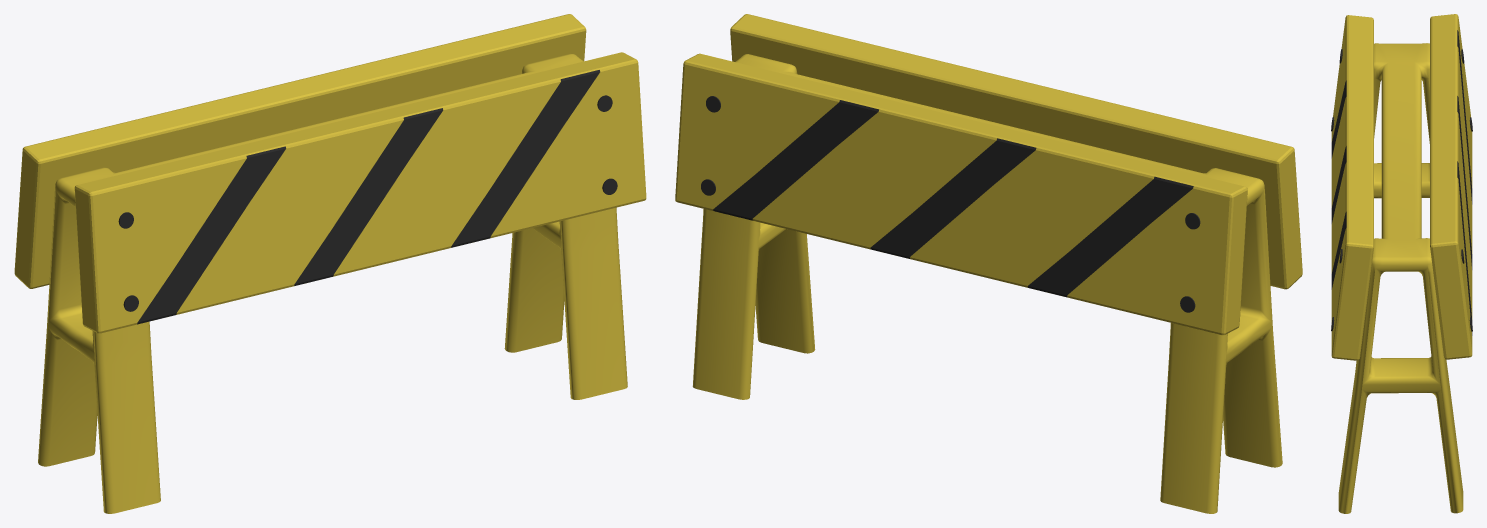
File: barricade.glb
The picture shows the model from 3 angles, left to right: view 1: azimuth 30°, elevation 25°; view 2: azimuth 150°, elevation 25°; view 3: azimuth 270°, elevation 25°; orthographic projection. The views are drawn at different scales.
Parts seen in each view (by area): view 1: Cube.001, Cube.005, Cube.003; view 2: Cube.003, Cube.005, Cube.001; view 3: Cube.005, Cube.001, Cube.003.
Boxes of the visible parts, x1,y1,x2,y2 form: Cube.001: [74, 52, 646, 333]; Cube.005: [38, 53, 627, 513]; Cube.003: [14, 14, 586, 288]; Cube.003: [675, 53, 1247, 335]; Cube.005: [692, 54, 1282, 513]; Cube.001: [730, 14, 1302, 289]; Cube.005: [1338, 43, 1463, 513]; Cube.001: [1331, 15, 1373, 360]; Cube.003: [1430, 14, 1472, 359].
Size of the model in its own units: 4.01 by 2.24 by 1.04.
